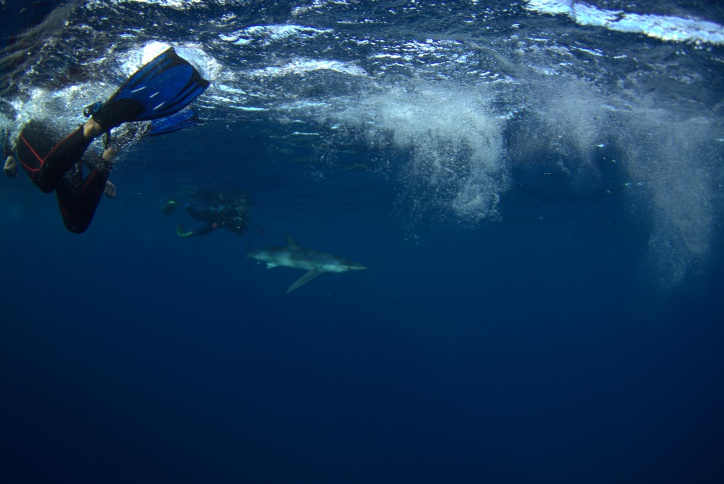Azul: (230, 228, 379, 306)
